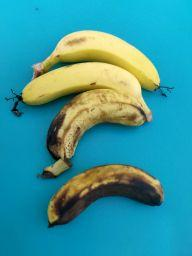banana: (28, 26, 176, 101), (38, 86, 152, 181), (3, 60, 155, 124), (46, 162, 165, 230)
